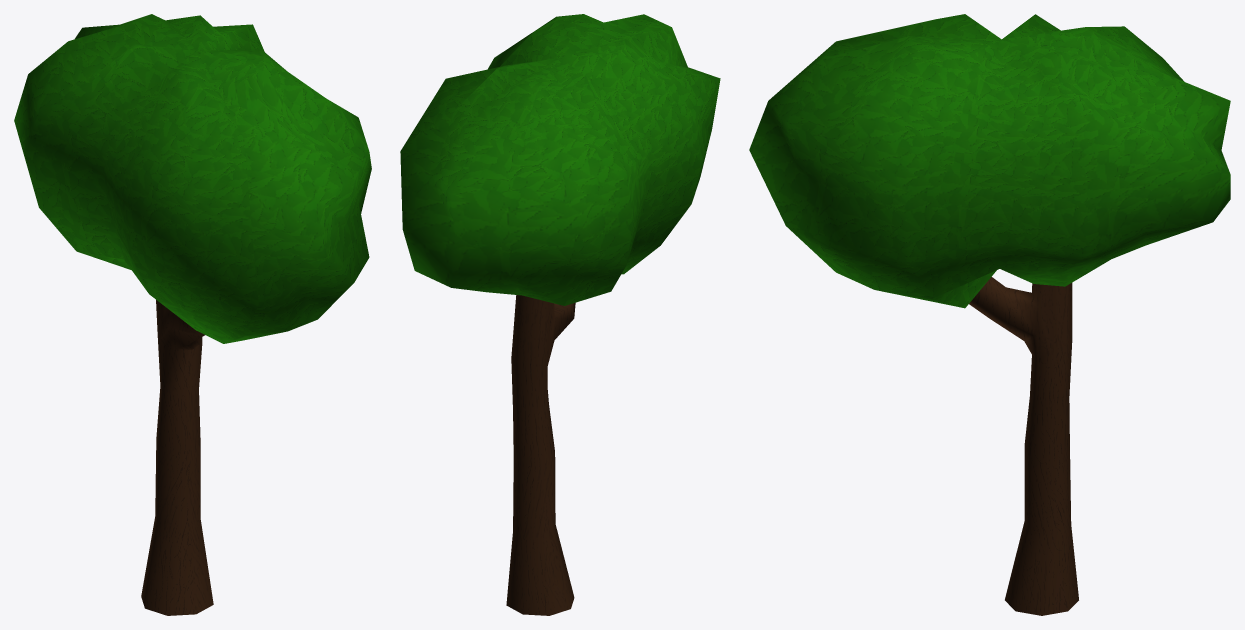
File: Tree lilY.fbx
The picture shows the model from 3 angles, left to right: view 1: azimuth 30°, elevation 25°; view 2: azimuth 150°, elevation 25°; view 3: azimuth 270°, elevation 25°; orthographic projection. The views are drawn at different scales.
Visible parts, largest first — view 1: Circle; view 2: Circle; view 3: Circle.
Part boxes in pixels (left/top/right/bottom): Circle: left=14, top=14, right=371, bottom=615; Circle: left=400, top=14, right=720, bottom=615; Circle: left=749, top=14, right=1230, bottom=615.
Size of the model in its own units: 1151 by 1939 by 2527.
1 material, 1 textured.
